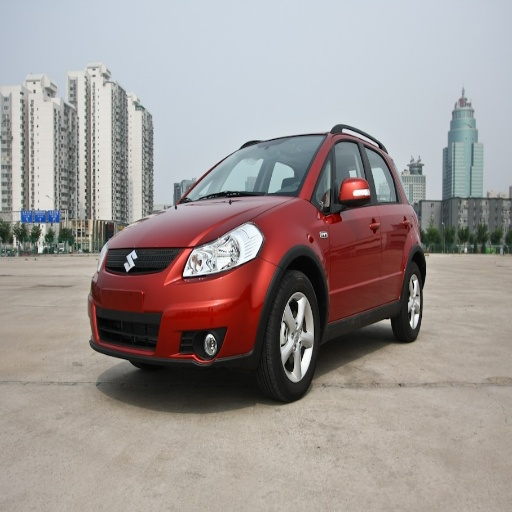front_bumper: (87, 239, 274, 365)
front_glass: (181, 136, 323, 203)
front_left_door: (324, 132, 382, 315)
